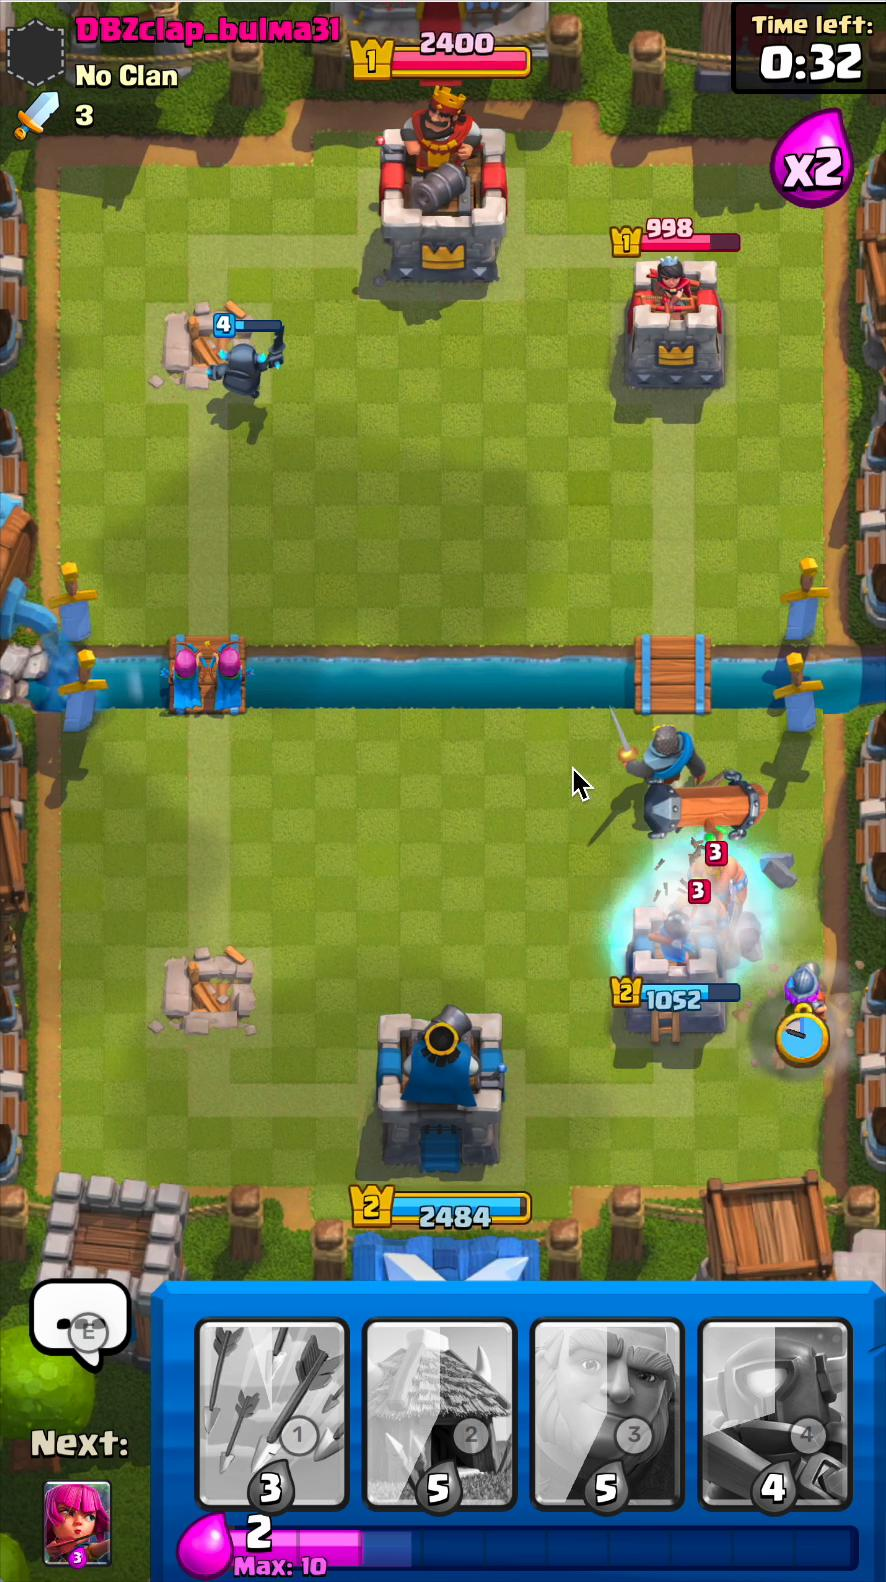chevalier: (608, 723, 700, 800)
mini_PEKKA: (205, 336, 292, 404)
mousquetaire: (776, 952, 833, 1044)
